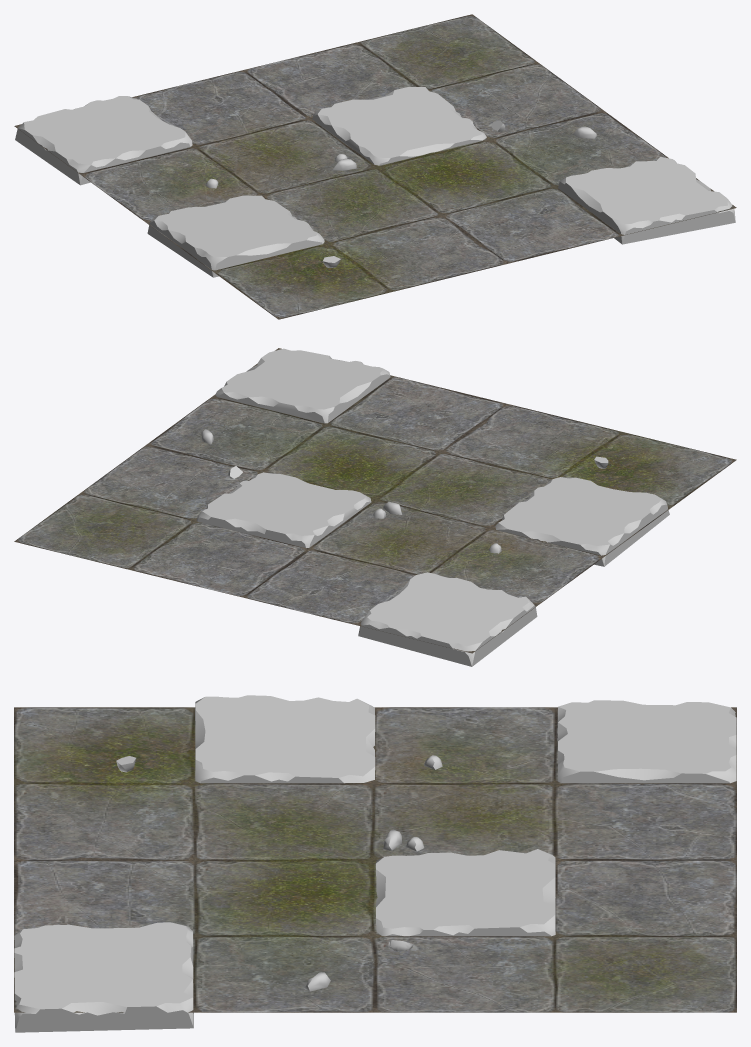
The model's file is Floor_Lvl2_2.fbx.
3 views of the same model, one above another, from view 1: azimuth 30°, elevation 25°; view 2: azimuth 150°, elevation 25°; view 3: azimuth 270°, elevation 25° (orthographic). The views are drawn at different scales.
Parts seen in each view (by area): view 1: StoneFloor.003, StoneFloor_Details.002; view 2: StoneFloor.003, StoneFloor_Details.002; view 3: StoneFloor.003, StoneFloor_Details.002.
Part boxes in pixels (x1=…): StoneFloor.003: x1=14, y1=14, x2=736, y2=319; StoneFloor_Details.002: x1=15, y1=87, x2=735, y2=277; StoneFloor.003: x1=14, y1=348, x2=736, y2=653; StoneFloor_Details.002: x1=196, y1=348, x2=669, y2=666; StoneFloor.003: x1=14, y1=707, x2=736, y2=1012; StoneFloor_Details.002: x1=14, y1=695, x2=736, y2=1032.
Bounding box in the file's own units: 382 × 20.6 × 382.
